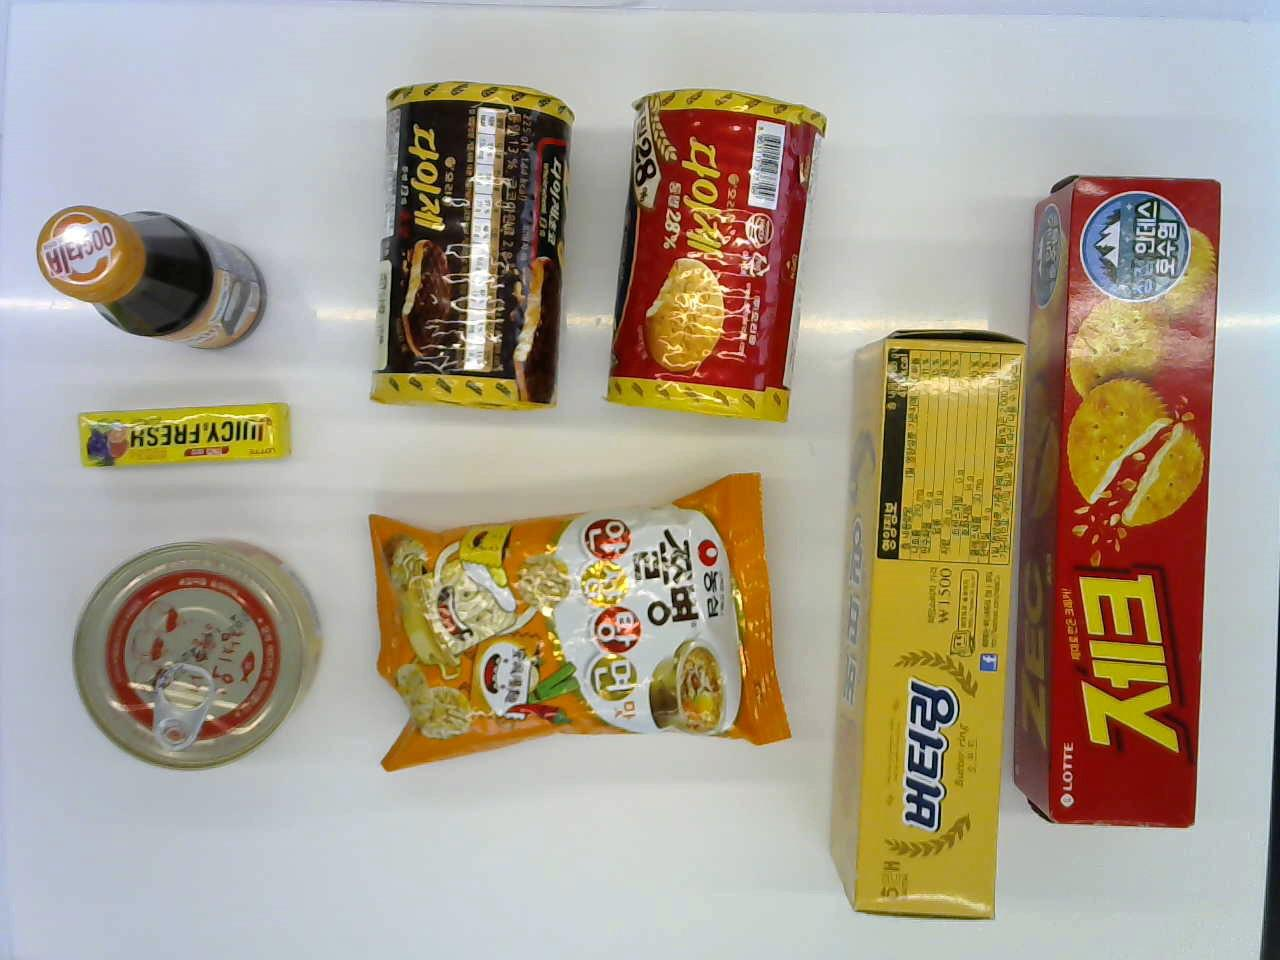buttering: (842, 324, 1019, 916)
diget_choco: (363, 76, 571, 417)
diget_ori: (607, 78, 815, 419)
jjolbyung_noodle: (360, 468, 794, 768)
juicyfresh: (78, 401, 298, 483)
tuna: (72, 521, 321, 776)
vita500: (38, 199, 277, 358)
zec: (1020, 166, 1233, 837)
